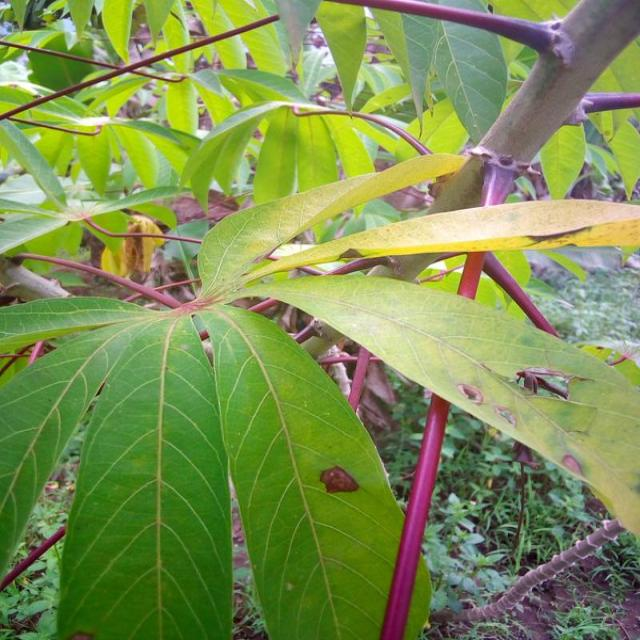cassava leaf: (239, 268, 639, 538), (194, 300, 432, 638), (55, 308, 234, 638)
